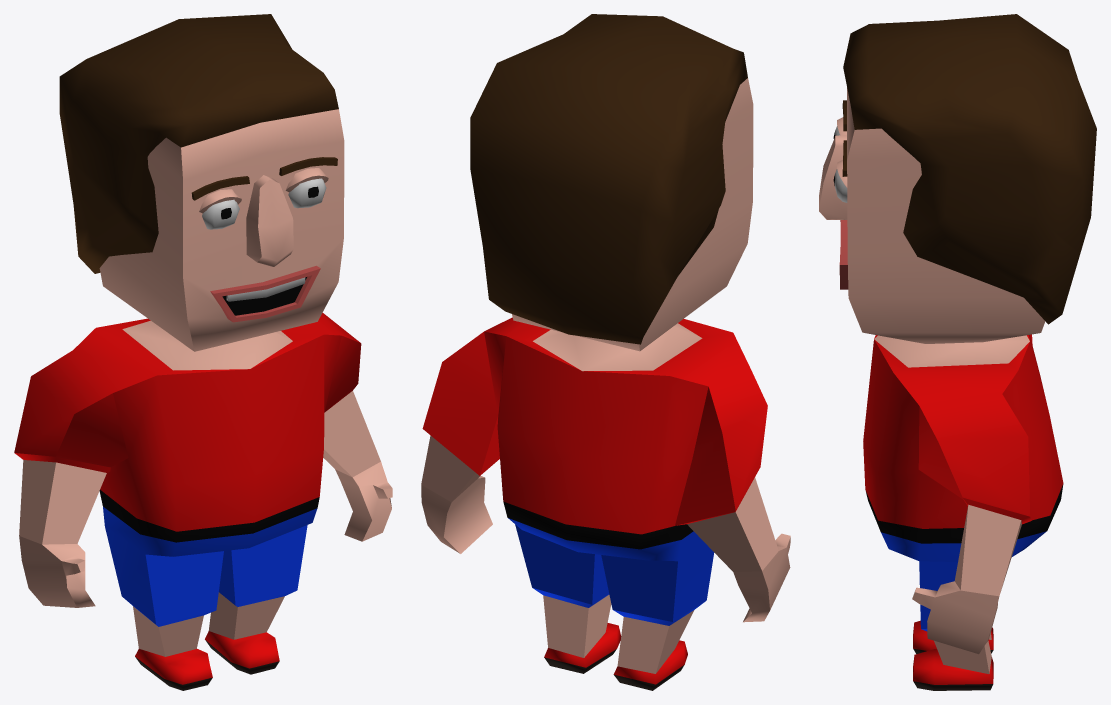
Rendered from brovi (1).fbx.
3 renders of one model, left to right at view 1: azimuth 30°, elevation 25°; view 2: azimuth 150°, elevation 25°; view 3: azimuth 270°, elevation 25°, orthographic.
Parts seen in each view (by area): view 1: man; view 2: man; view 3: man.
Boxes of the visible parts, x1,y1,x2,y2 form: man: (14,14,392,690); man: (421,14,790,690); man: (819,14,1096,690).
Size of the model in its own units: 327 by 563 by 226.
